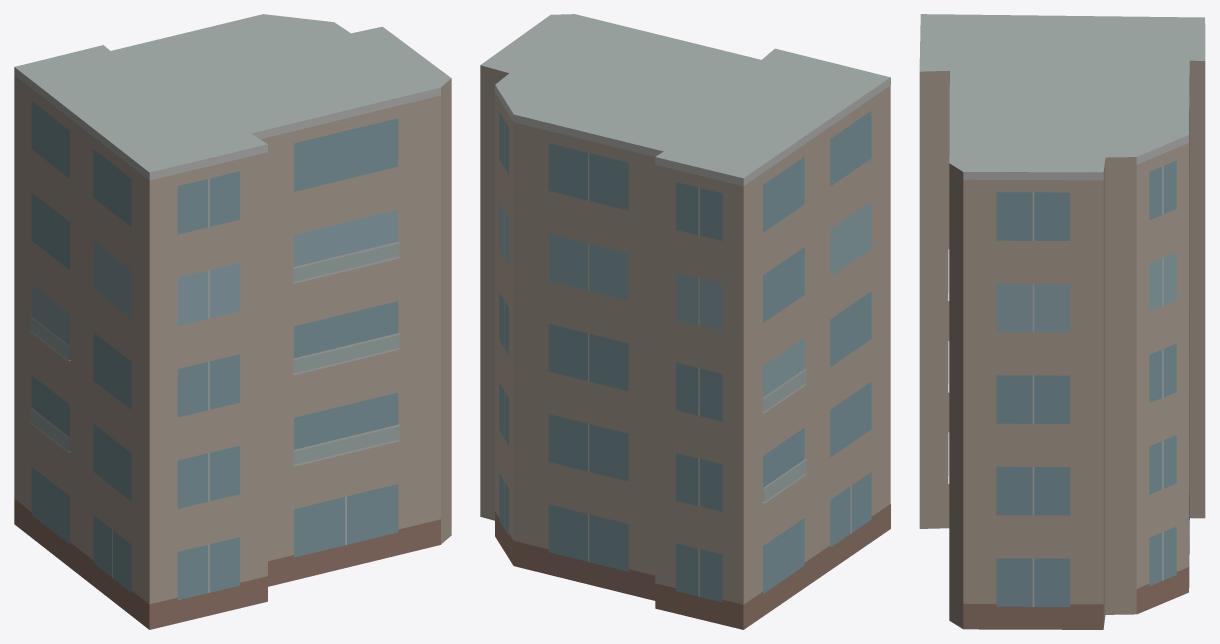
File: survey-upis-32909128.glb
The picture shows the model from 3 angles, left to right: view 1: azimuth 30°, elevation 25°; view 2: azimuth 150°, elevation 25°; view 3: azimuth 270°, elevation 25°; orthographic projection.
Parts seen in each view (by area): view 1: survey-upis-32909128.tmp; view 2: survey-upis-32909128.tmp; view 3: survey-upis-32909128.tmp.
Part boxes in pixels (x1,y1,x2,y2): survey-upis-32909128.tmp: [14, 14, 451, 629]; survey-upis-32909128.tmp: [480, 14, 890, 629]; survey-upis-32909128.tmp: [919, 14, 1205, 629].
Bounding box in the file's own units: 10.48 × 14.1 × 8.
